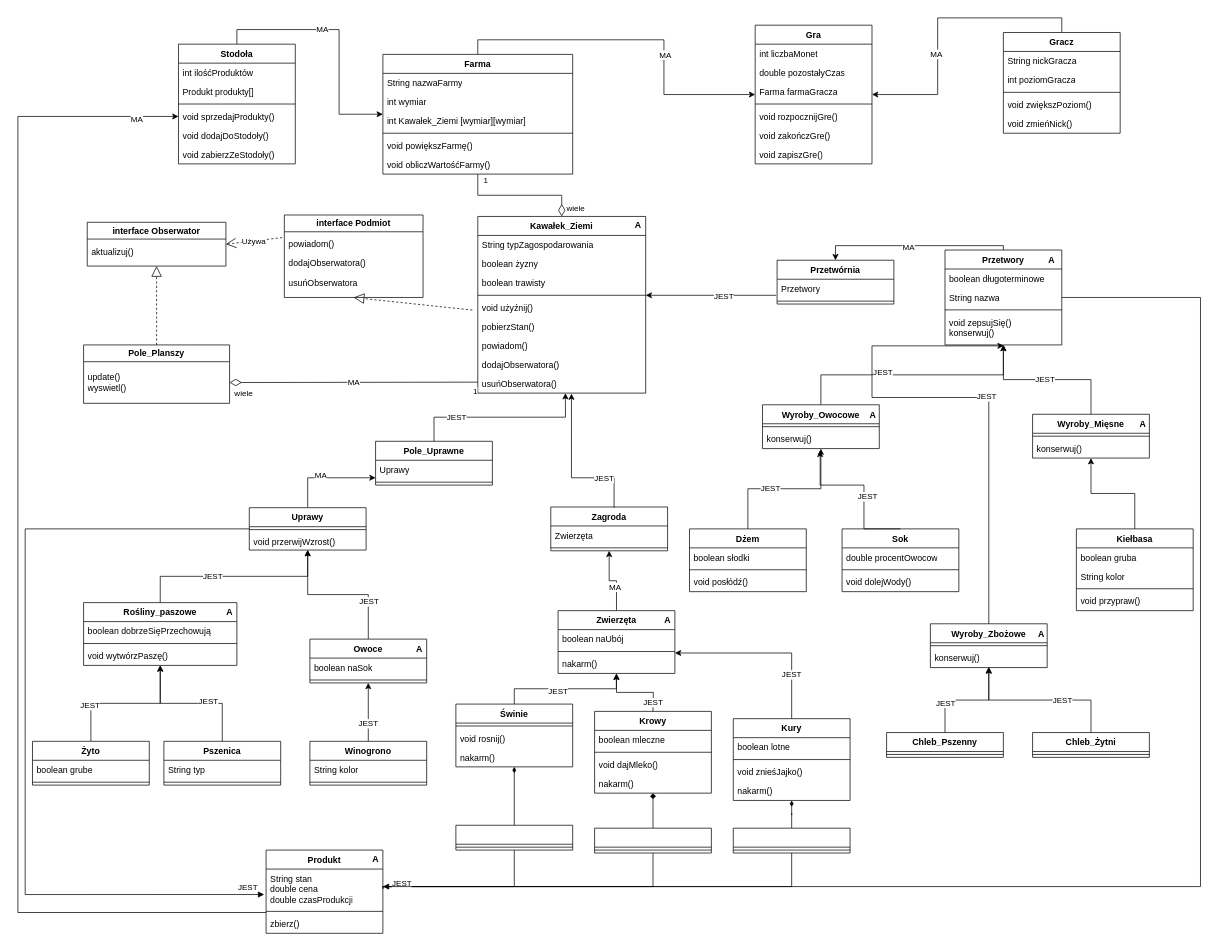
Some shapes in this 1219 by 948 pixel diagram are drawn without their labels. Each missing label, with the centre of its shape:
Jajka: (x=791, y=840)
Mięso: (x=514, y=837)
Mleko: (x=652, y=840)
